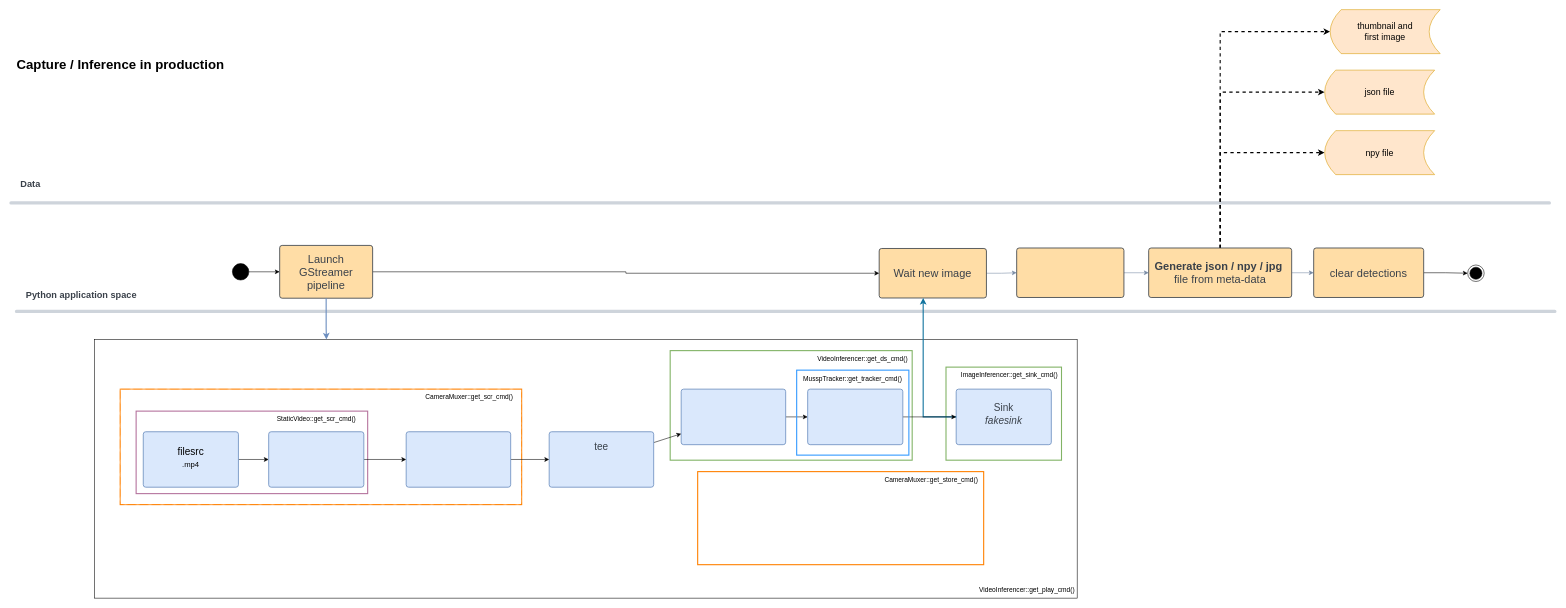
This 1566x608 diagram has some shape labels left out. Here are the shapes that lost their labels. From the top down, the centre of each, then its label:
[1070,272]: Store detections (meta-data)
[88,330]: GStreamer space
[733,416]: AI models inference nvinfer
[855,416]: tracker mussp*
[316,459]: decoding
[458,459]: stream muxeur
